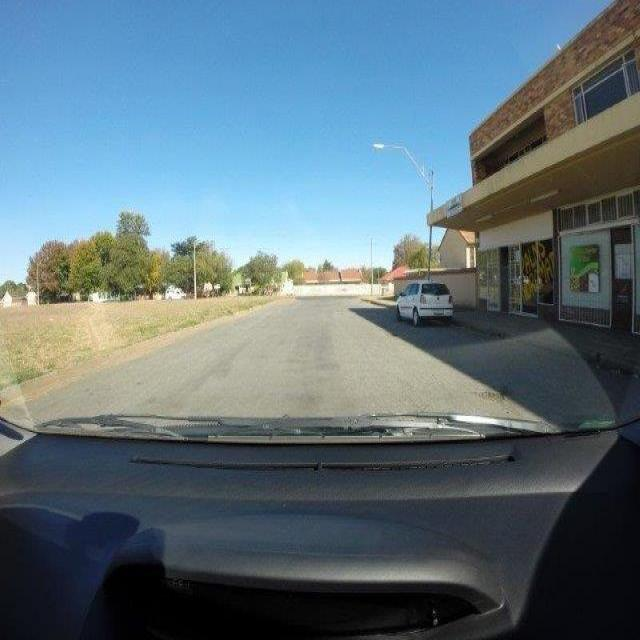lubang: (477, 380, 507, 404)
